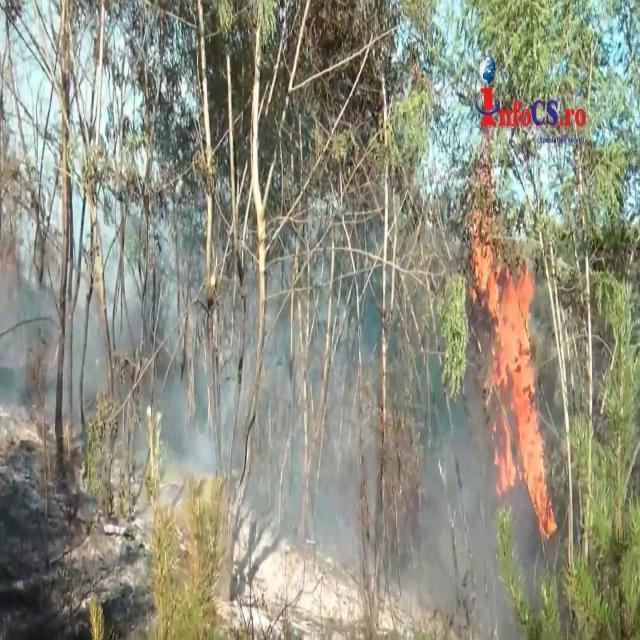Fire: (466, 194, 554, 538)
Smoke: (1, 184, 383, 597)
